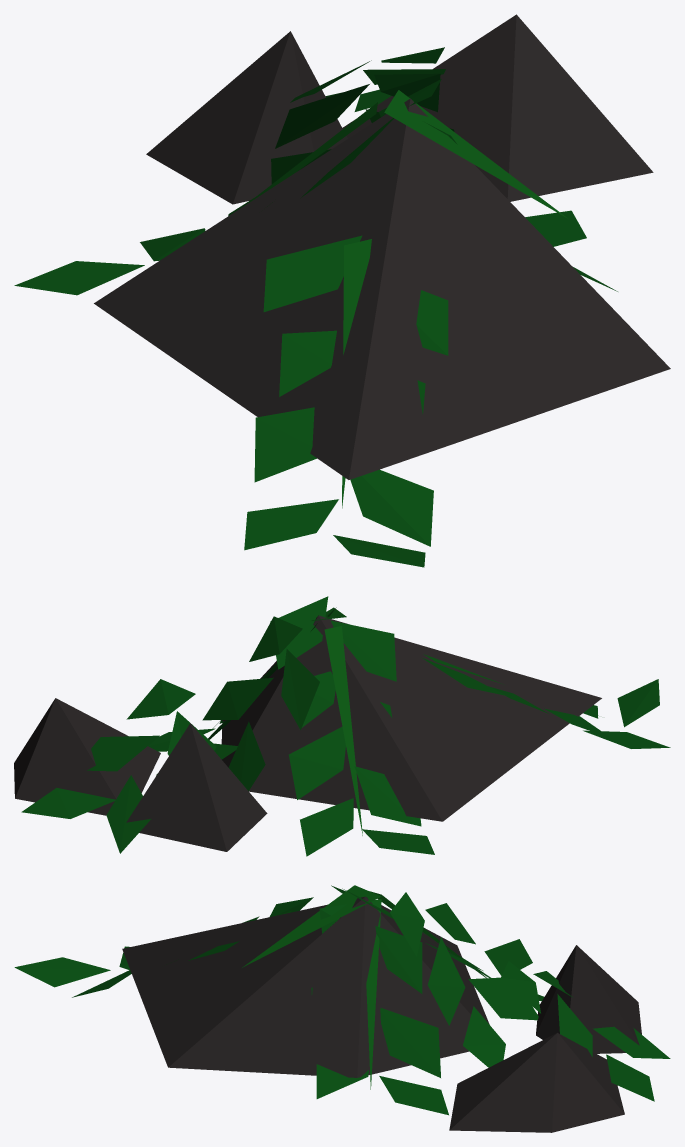
The model's file is obj_rock_7_0.obj.
3 views of the same model, one above another, from view 1: azimuth 30°, elevation 25°; view 2: azimuth 150°, elevation 25°; view 3: azimuth 270°, elevation 25° (orthographic). The views are drawn at different scales.
Bounding box in the file's own units: 1.49 × 0.5625 × 1.9.
